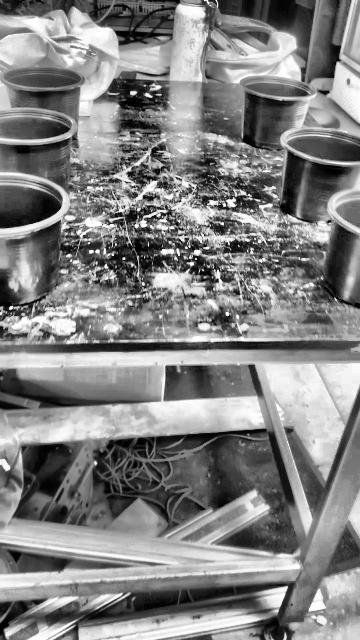pot: (0, 174, 67, 306), (281, 129, 360, 224), (0, 107, 77, 191), (241, 77, 315, 148), (2, 67, 84, 123), (323, 188, 359, 305), (104, 489, 139, 520)
